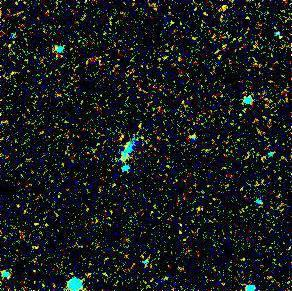star: (207, 0, 237, 22)
